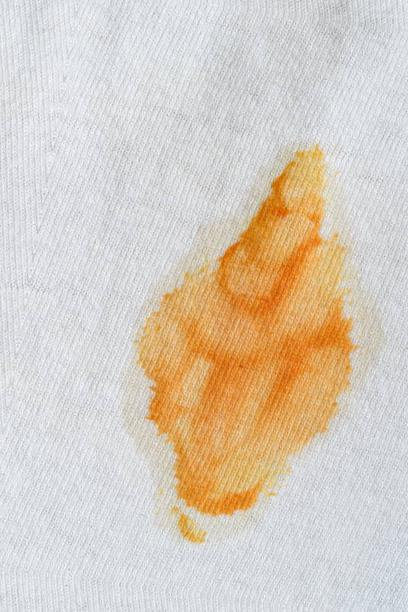stain: (136, 138, 362, 561)
